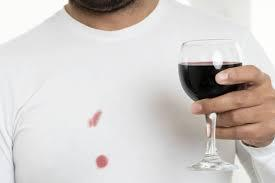oil: (86, 109, 103, 127), (93, 156, 111, 171)
